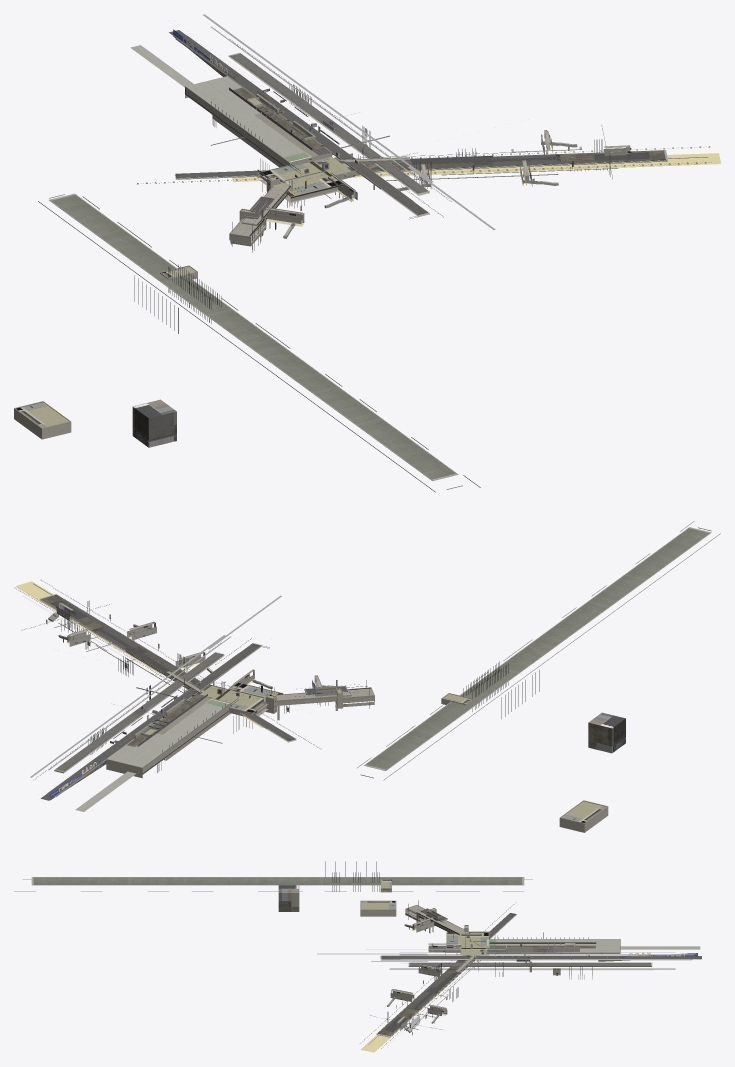
File: kado_02_exact_geometry_texture_v3.glb
3 renders of one model, top to bottom at view 1: azimuth 30°, elevation 25°; view 2: azimuth 150°, elevation 25°; view 3: azimuth 270°, elevation 25°, orthographic. The views are drawn at different scales.
Visible parts, largest first — view 1: Cube.148, Cube.1588, Cube.100, Cube.1573, Cube.1623, Cube.005, Cube.1524, Cube.001, Cube.327, Cube.006, Cube.146, Cube.1719 (+1 smaller); view 2: Cube.148, Cube.1588, Cube.100, Cube.1573, Cube.1524, Cube.1623, Cube.001, Cube.327, Cube.006, Cube.146, Cube.1719, Cube.005 (+3 smaller); view 3: Cube.148, Cube.1588, Cube.100, Cube.1524, Cube.1573, Cube.006, Cube.146, Cube.1623, Cube.327, Cube.001, Cube.1523, Cube.1571 (+4 smaller).
Boxes of the visible parts, x1,y1,x2,y2 form: Cube.148: (51,195,455,479); Cube.1588: (185,76,331,162); Cube.100: (175,150,667,179); Cube.1573: (169,30,429,215); Cube.1623: (257,157,375,201); Cube.005: (232,153,720,181); Cube.1524: (230,53,429,193); Cube.001: (132,399,176,447); Cube.327: (14,401,71,439); Cube.006: (203,14,495,229); Cube.146: (49,193,458,480); Cube.1719: (185,86,290,167); Cube.148: (366,528,709,769); Cube.1588: (106,694,230,778); Cube.100: (40,595,295,741); Cube.1573: (41,643,261,800); Cube.1524: (56,653,223,771); Cube.1623: (192,680,282,716); Cube.001: (588,712,625,753); Cube.327: (559,800,608,832); Cube.006: (30,595,281,777); Cube.146: (364,527,711,770); Cube.1719: (142,703,231,774); Cube.005: (16,581,263,728); Cube.148: (33,877,522,884); Cube.1588: (486,939,620,952); Cube.100: (377,913,516,1037); Cube.1524: (408,962,651,966); Cube.1573: (381,955,701,960); Cube.006: (317,952,693,955); Cube.146: (31,877,524,885); Cube.1623: (446,932,489,954); Cube.327: (360,900,396,916); Cube.001: (278,885,299,911); Cube.1523: (390,968,675,969); Cube.1571: (380,955,692,960).
Size of what is drawn, in the model's own units: 48.86 by 8.98 by 67.79.
Materials: 16 (11 with a texture image).
